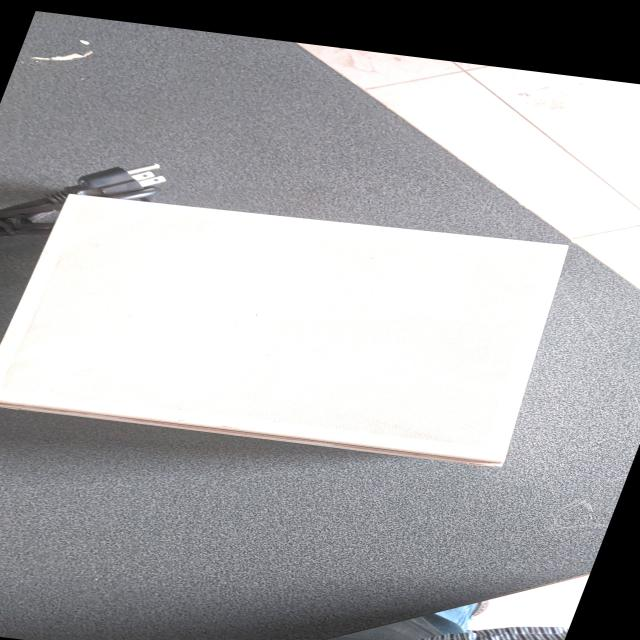Freefall Digital Timer: (0, 159, 604, 475)
